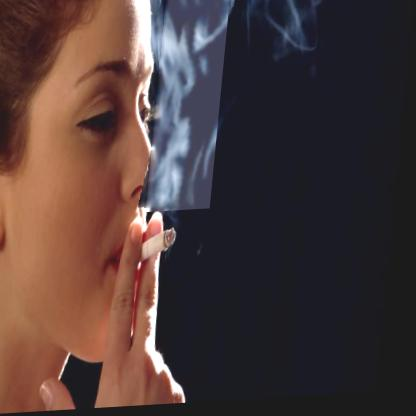smoke: (150, 0, 230, 214)
